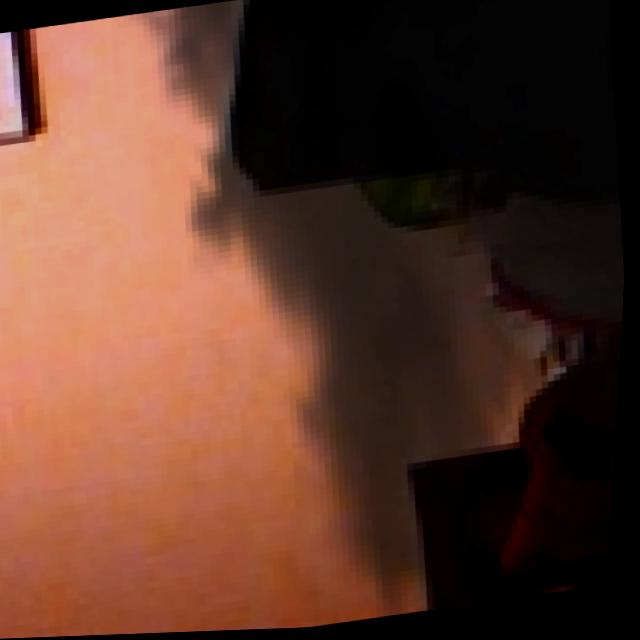smoke: (85, 0, 640, 637)
